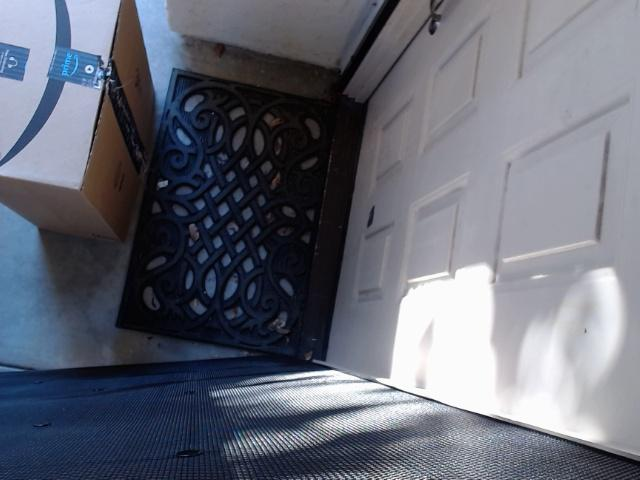box: (0, 0, 188, 276)
